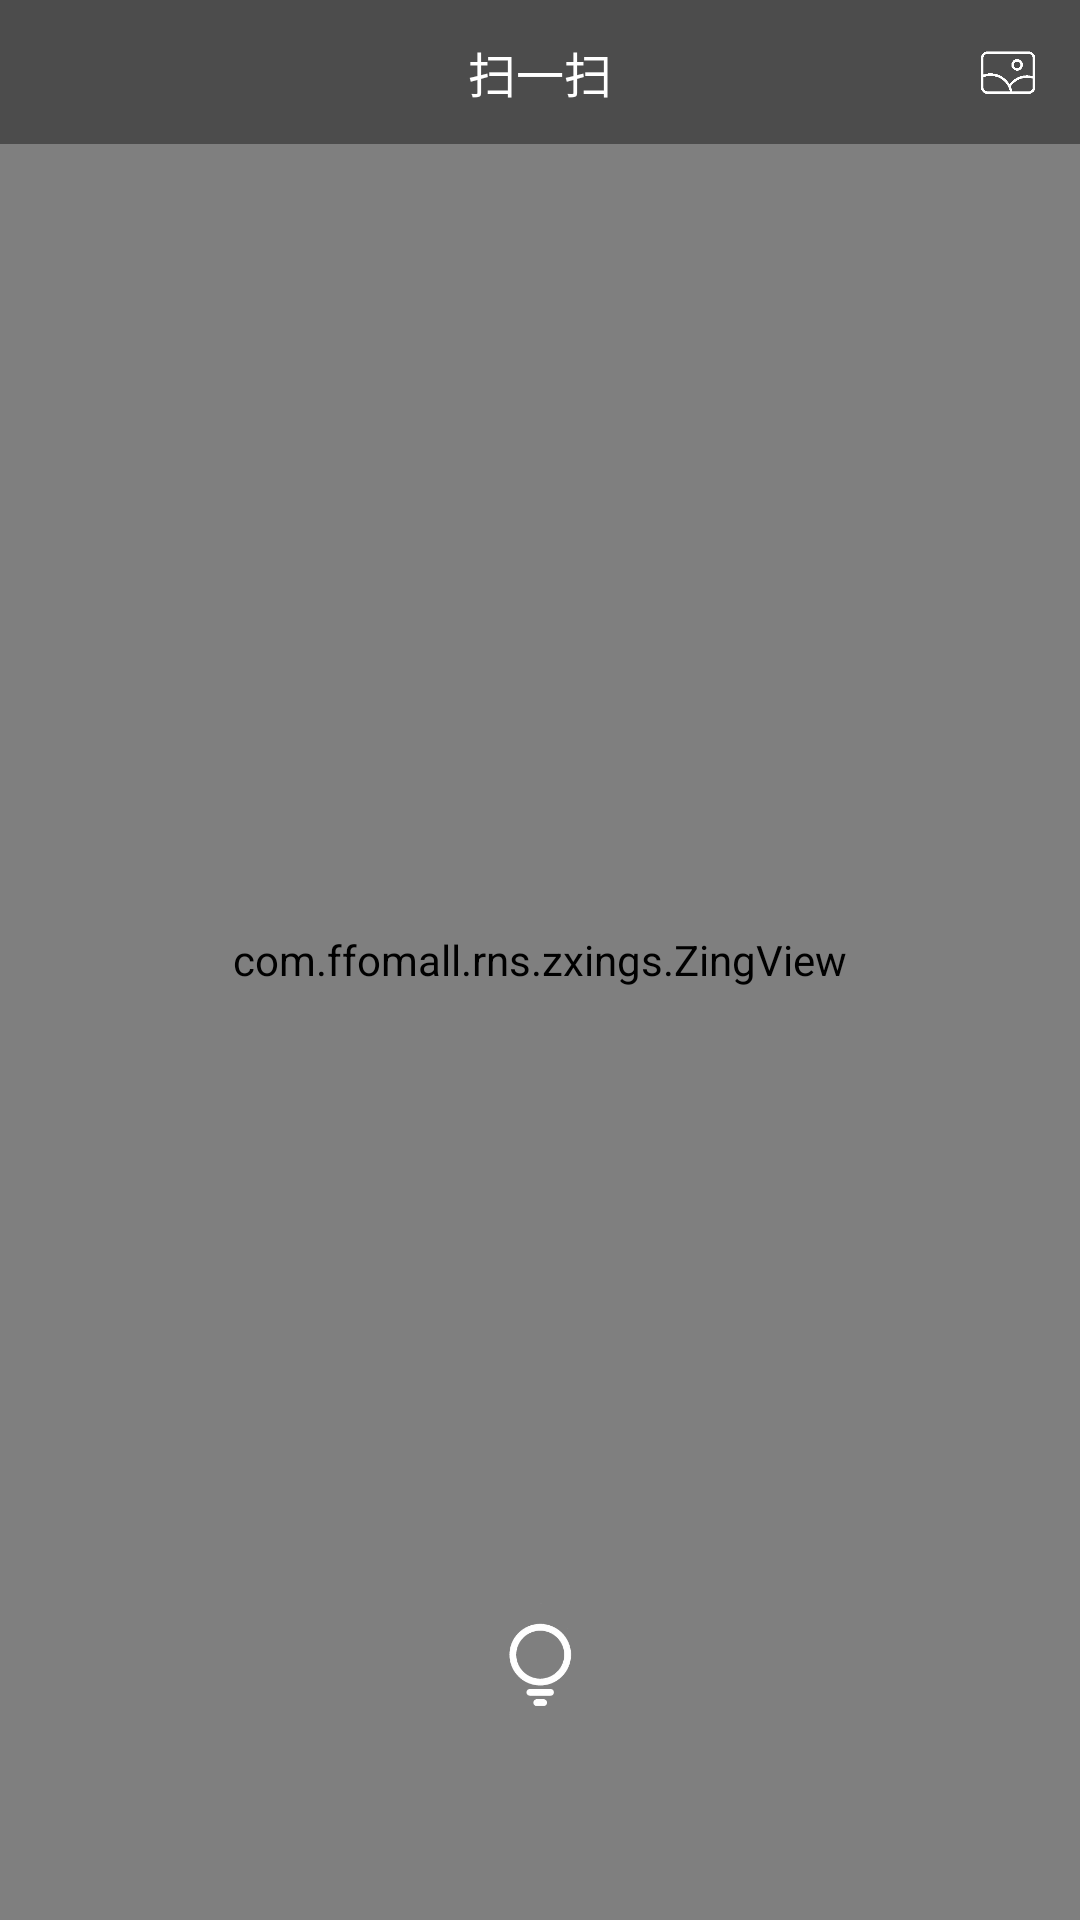

Screen size 1080 × 1920. Icon name, then its center in pixels as [x,y]:
xiangce: [1008,72]
